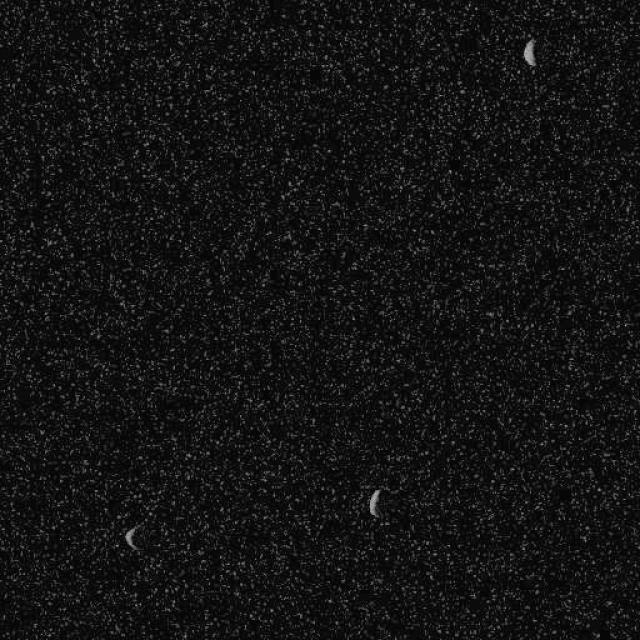D2: (122, 524, 140, 551), (522, 38, 538, 66), (368, 488, 382, 518)
